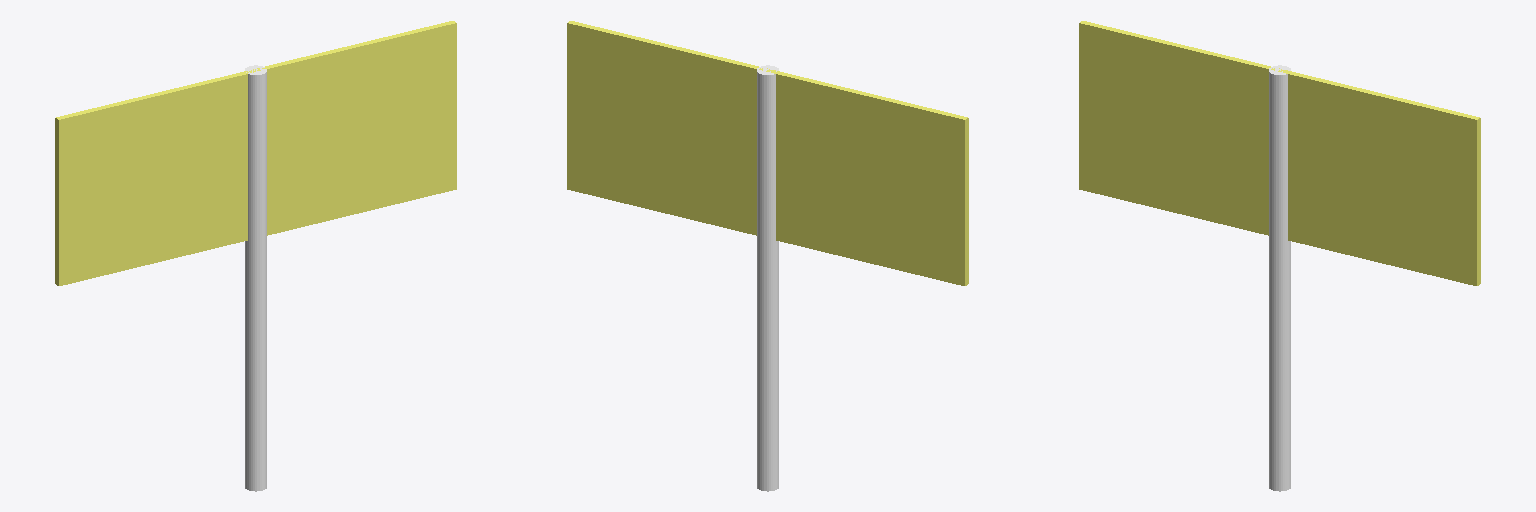
The robot description file, URDF, robot "horizontal_flap":
<?xml version="1.0"?>
<robot name="horizontal_flap">
  <!-- Vertical bar (base) -->
  <link name="vertical_bar">
    <visual>
      <origin xyz="0 0 0.1" rpy="0 0 0"/>
      <geometry>
        <cylinder radius="0.005" length="0.2"/>
      </geometry>
      <material name="gray">
        <color rgba="1 1 1 1"/>
      </material>
    </visual>
    <collision>
      <origin xyz="0 0 0.1" rpy="0 0 0"/>
      <geometry>
        <cylinder radius="0.005" length="0.2"/>
      </geometry>
    </collision>
    <inertial>
      <mass value="0.001"/>
      <origin xyz="0 0 0" rpy="0 0 0"/>
      <inertia 
         ixx="0.001" ixy="0" ixz="0"
         iyy="0.001" iyz="0"
         izz="0.001"/>
    </inertial>
  </link>
    

  <!-- Horizontal flap -->
  <link name="horizontal_flap">
    <visual>
      <origin xyz="0 0 0" rpy="0 0 0"/>
      <geometry>
        <box size="0.2 0.08 0.003"/>
      </geometry>
      <material name="box_color_horizontal_flap">
        <color rgba="1 1 0.5 1"/>
      </material>
    </visual>
    <collision>
      <origin xyz="0 0 0" rpy="0 0 0"/>
      <geometry>
        <box size="0.2 0.08 0.003"/>
      </geometry>
    </collision>
    <inertial>
      <mass value="0.001"/>
      <origin xyz="0 0 0" rpy="0 0 0"/>
      <inertia
         ixx="0.002" ixy="0" ixz="0"
         iyy="0.002" iyz="0"
         izz="0.002"/>
    </inertial>
  </link>
    
  <joint name="flap_hinge_joint" type="continuous">
    <parent link="vertical_bar"/>
    <child link="horizontal_flap"/>
    <origin xyz="0 0 0.16" rpy="1.5707963267948966 0 0"/>
    <axis xyz="0 1 0"/>
    <dynamics damping="0.001" friction="0.001"/>
    <limit lower="-3.141592653589793" upper="3.141592653589793"/>
  </joint>
    

</robot>

--- Render facts (derived) ---
3 views of the same robot in one strip: view 1: azimuth 30°, elevation 25°; view 2: azimuth 150°, elevation 25°; view 3: azimuth 330°, elevation 25° (orthographic).
Model horizontal_flap with 2 links and 1 joints (1 continuous), rooted at vertical_bar, posed every joint at zero.
Visible links, largest first — view 1: horizontal_flap, vertical_bar; view 2: horizontal_flap, vertical_bar; view 3: horizontal_flap, vertical_bar.
Boxes of the visible links, x1=… form: horizontal_flap: x1=55, y1=21, x2=456, y2=285; vertical_bar: x1=245, y1=65, x2=266, y2=491; horizontal_flap: x1=567, y1=21, x2=968, y2=285; vertical_bar: x1=757, y1=65, x2=778, y2=491; horizontal_flap: x1=1079, y1=21, x2=1480, y2=285; vertical_bar: x1=1269, y1=65, x2=1290, y2=491.
Size in the robot's own frame: 0.2 by 0.01 by 0.2 metres.
Geometry: primitives only (box / cylinder / sphere), no mesh files.